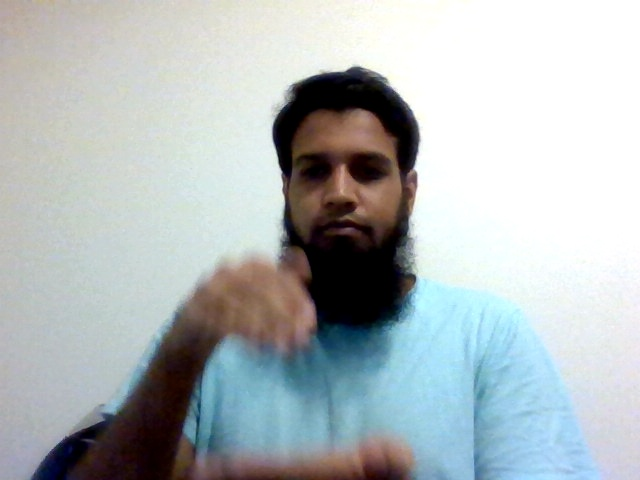again: (184, 242, 416, 478)
